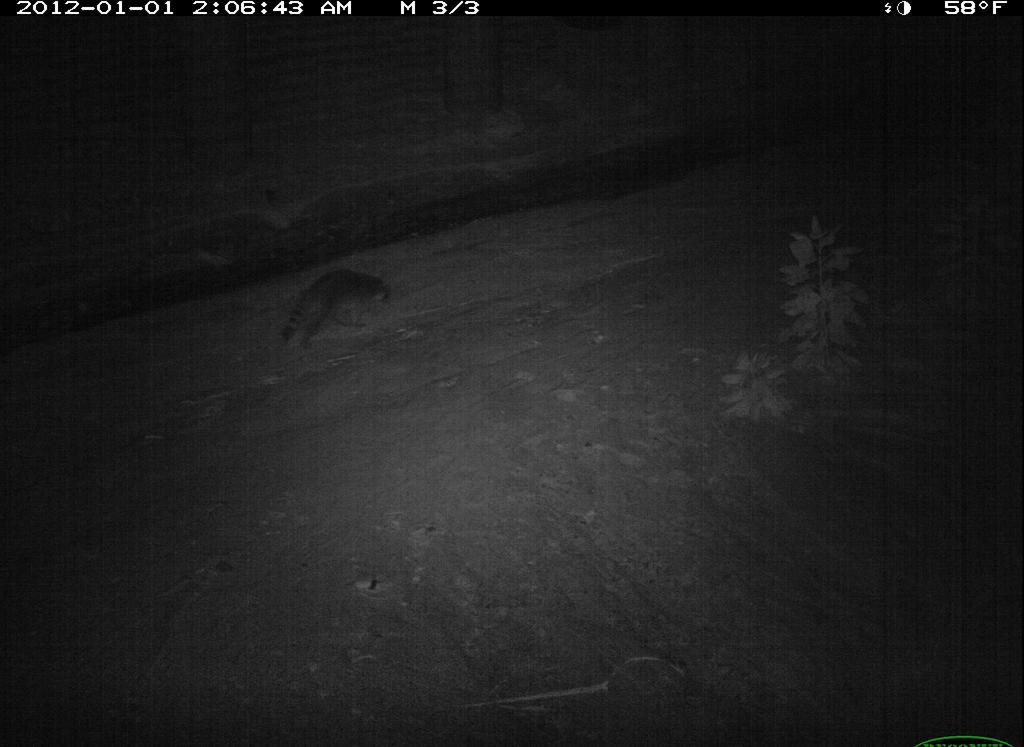raccoon: (274, 259, 399, 361)
